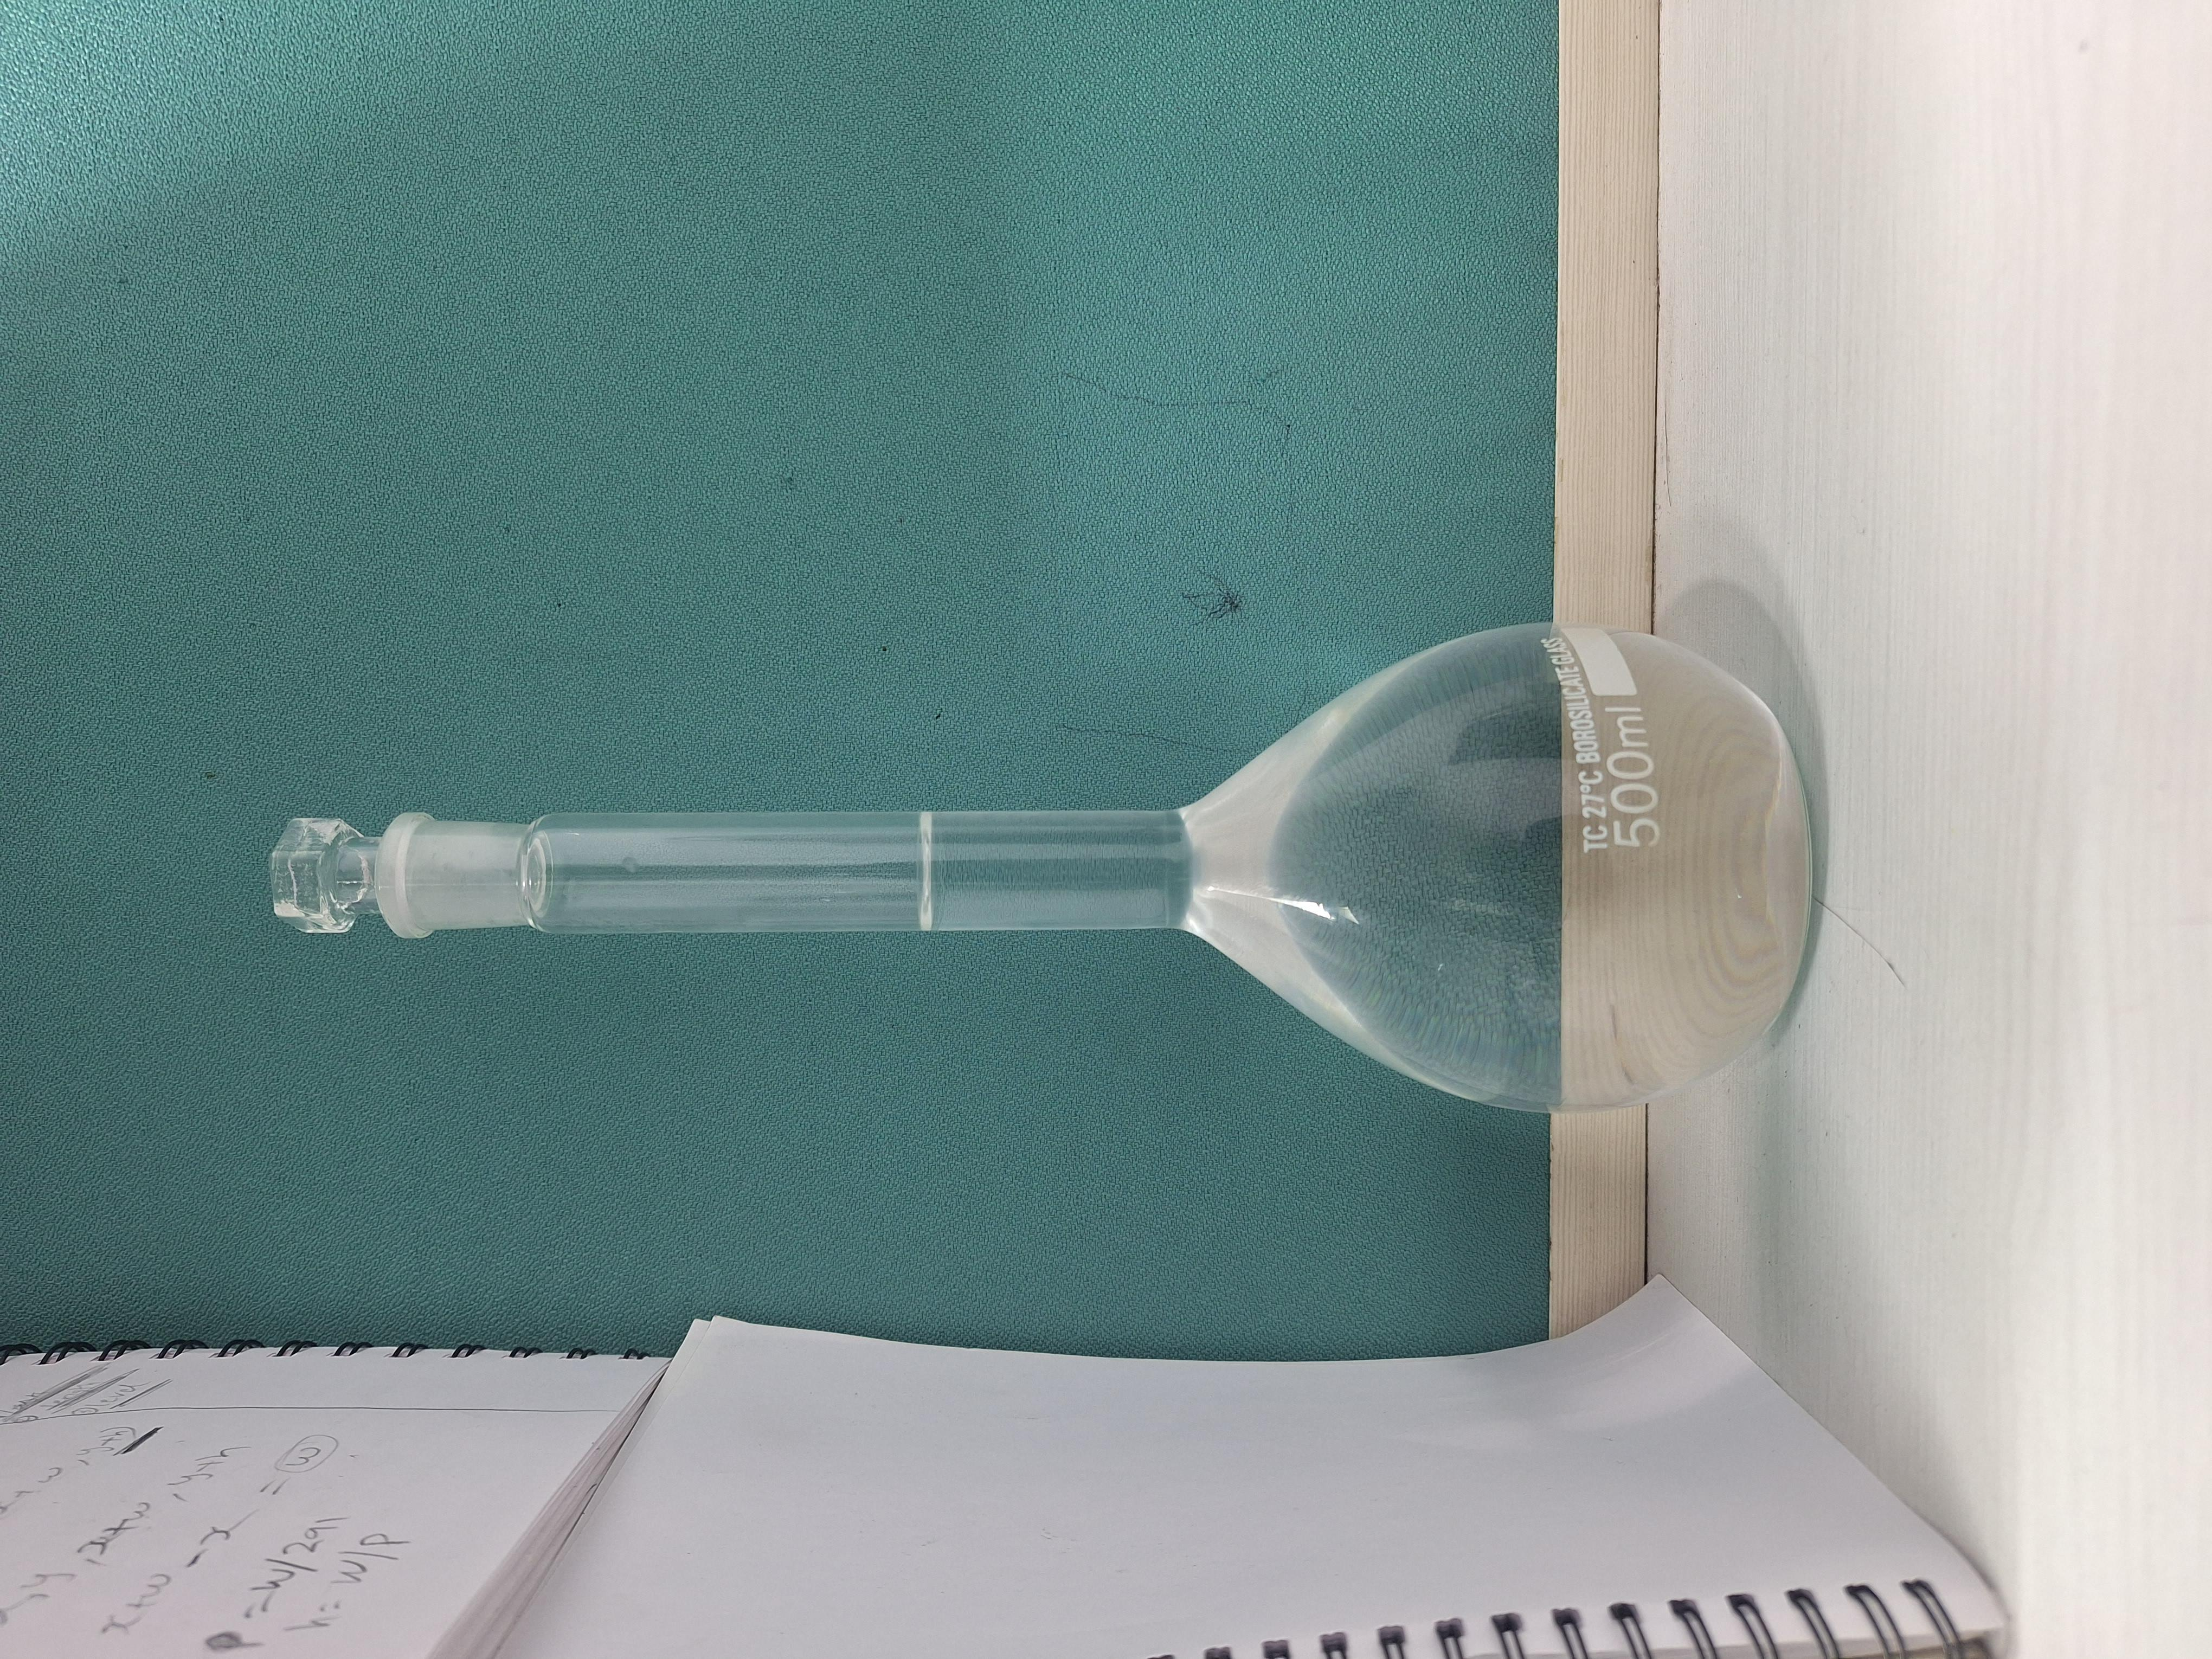Volumetric flask: (693, 192, 1409, 1366)
